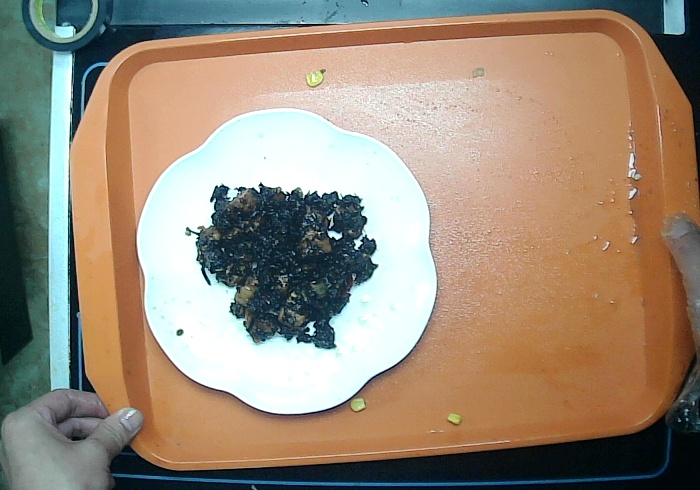HZYJPL-Bai_Se_Hua_Duo_Wan: (127, 101, 444, 424)
